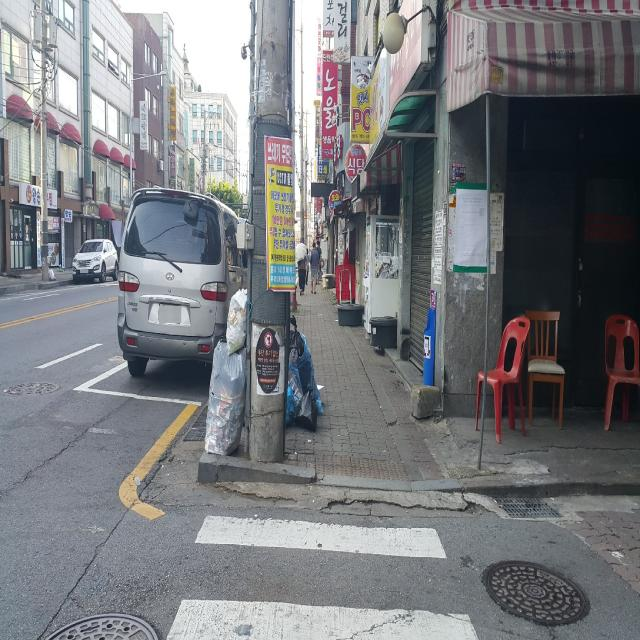횡단보도: (163, 512, 480, 640)
